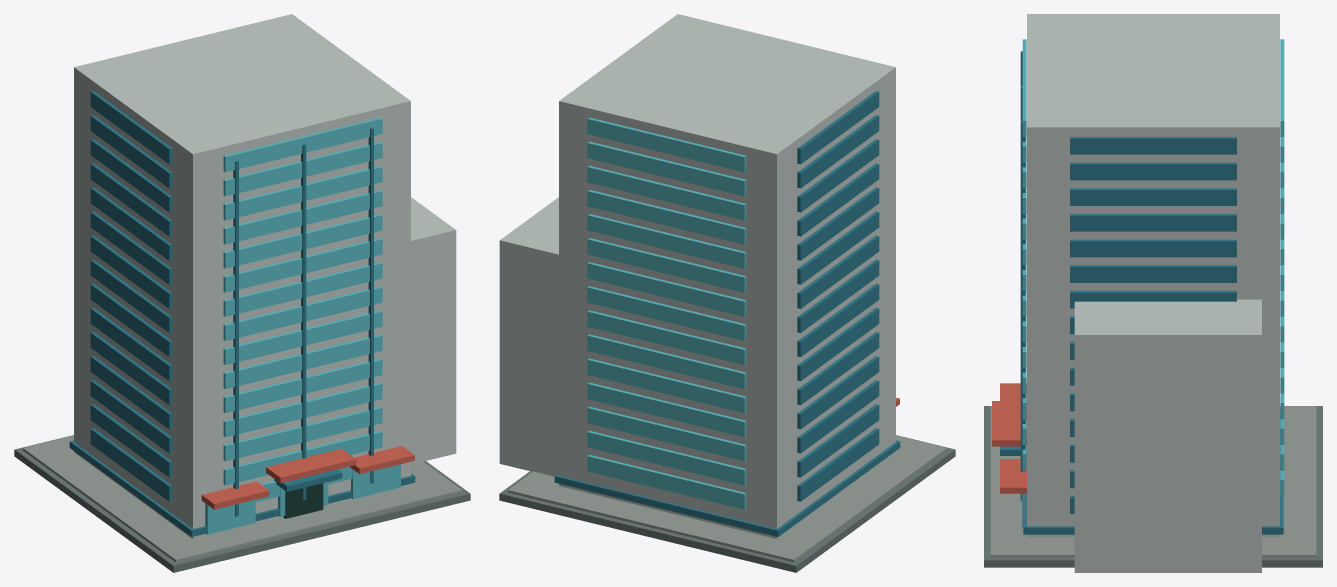
File: office_lv3.glb
3 views of the same model, side by side, from view 1: azimuth 30°, elevation 25°; view 2: azimuth 150°, elevation 25°; view 3: azimuth 270°, elevation 25° (orthographic). The views are drawn at different scales.
Visible parts, largest first — view 1: rough, glossy; view 2: rough, glossy; view 3: rough, glossy.
Part boxes in pixels (box(x1,y1,x2,y2)): rough: box(14, 14, 470, 572); glossy: box(69, 91, 415, 536); rough: box(499, 14, 955, 572); glossy: box(554, 91, 900, 536); rough: box(984, 14, 1322, 572); glossy: box(1000, 39, 1284, 534).
Bounding box in the file's own units: 10.73 × 12.44 × 9.1.
